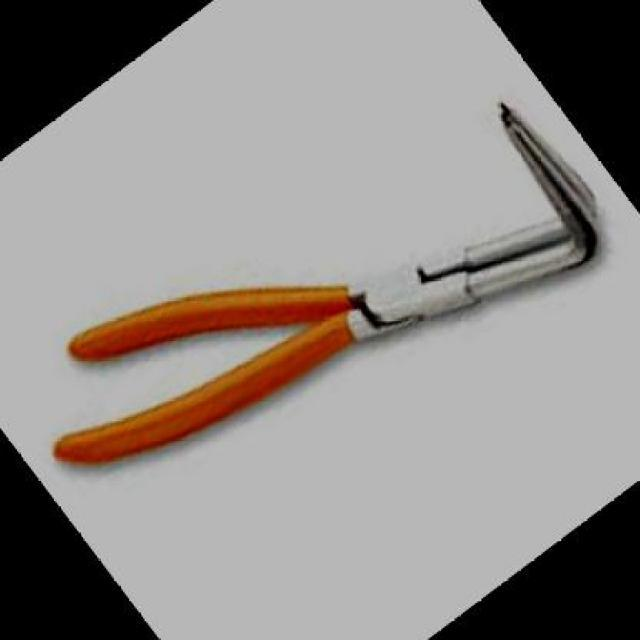pliers: (0, 20, 638, 603)
